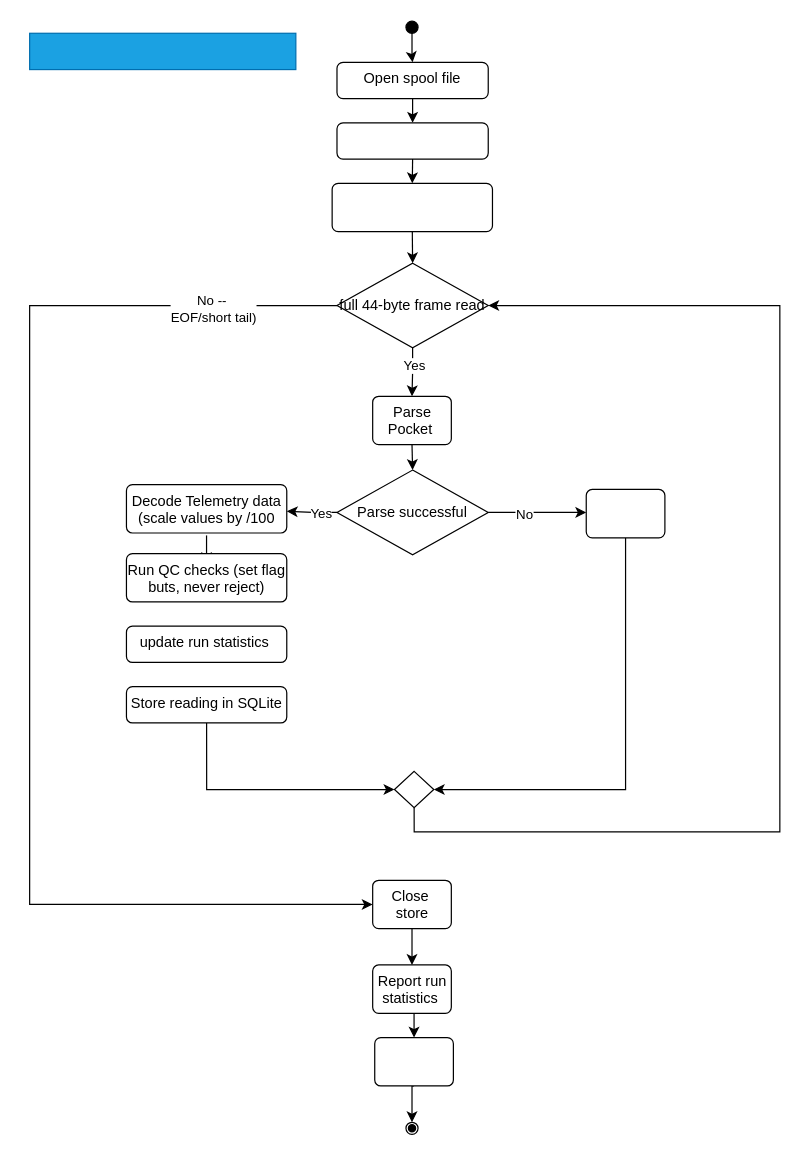
This 811x1156 diagram has some shape labels left out. The shapes that lost their labels are listed below. From the top down, each one's centre as x and y in pixels, then its label:
At [162,51]: "Telemetry Ingest Activity Diagram".
At [412,140]: "Open SQLite store".
At [411,207]: "Initialize QC limits and run statistics".
At [625,513]: "Record rejection".
At [413,1061]: "Close spoon file".
